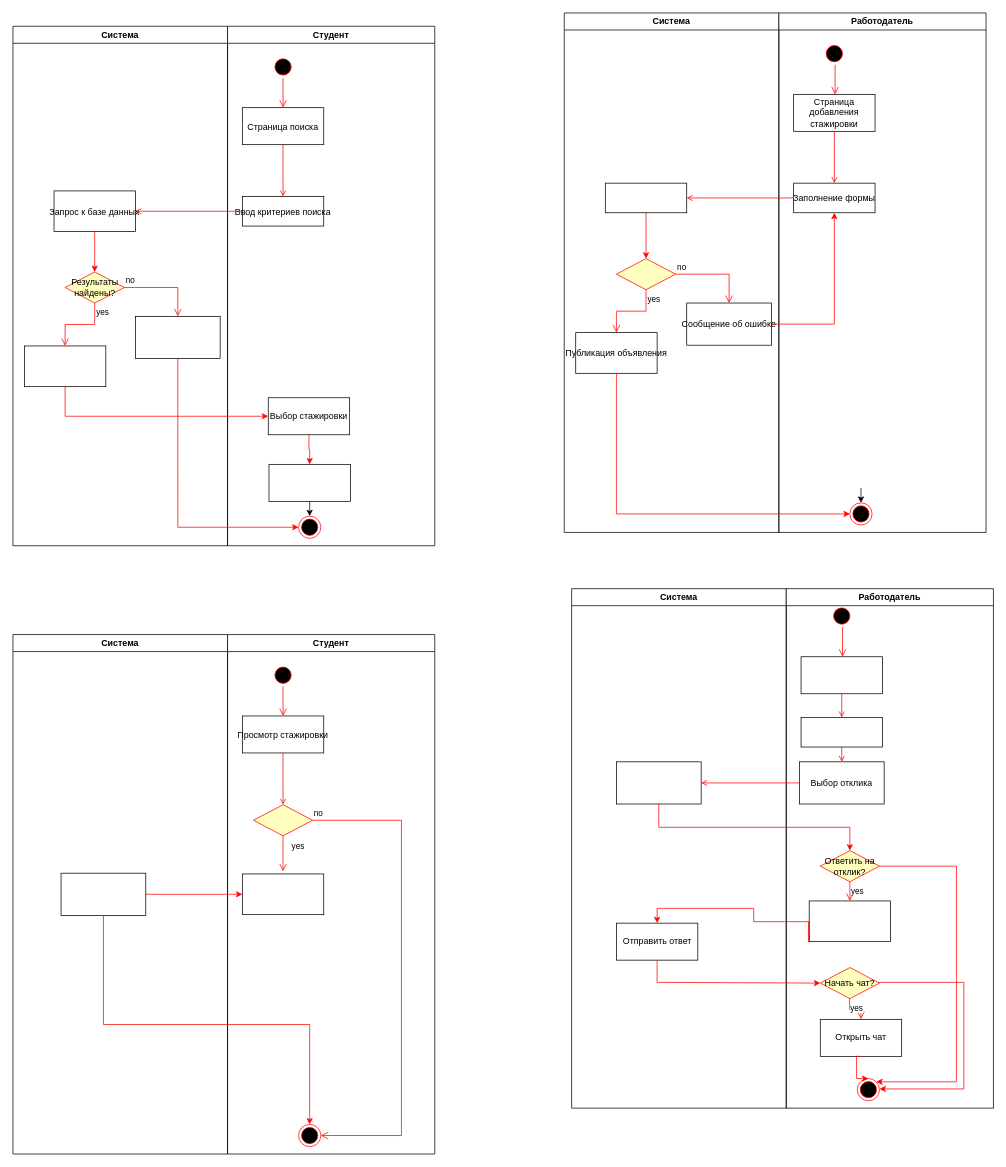
The diagram is 1006 pixels wide and 1167 high, and some of its shapes have lost their labels. Here are the shapes that lost their labels. From the top down, the centre of each, then its label:
At pixel 646 197: "Проверка заполнения полей".
At pixel 646 274: "Все поля заполнены".
At pixel 177 337: "Сообщение об отсутствии результата".
At pixel 65 366: "Отображение результат".
At pixel 309 482: "Просмотр подробностей".
At pixel 841 675: "Страница управления откликами".
At pixel 841 732: "Выбор объявления с откликами".
At pixel 658 782: "Отображение подробностей".
At pixel 283 820: "Отправить заявку?".
At pixel 103 893: "Отправка заявки".
At pixel 283 894: "Заполнение заявки".
At pixel 849 921: "Написать ответ".
